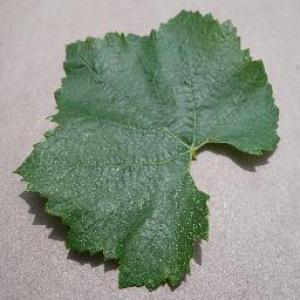Folha: (12, 8, 280, 292)
